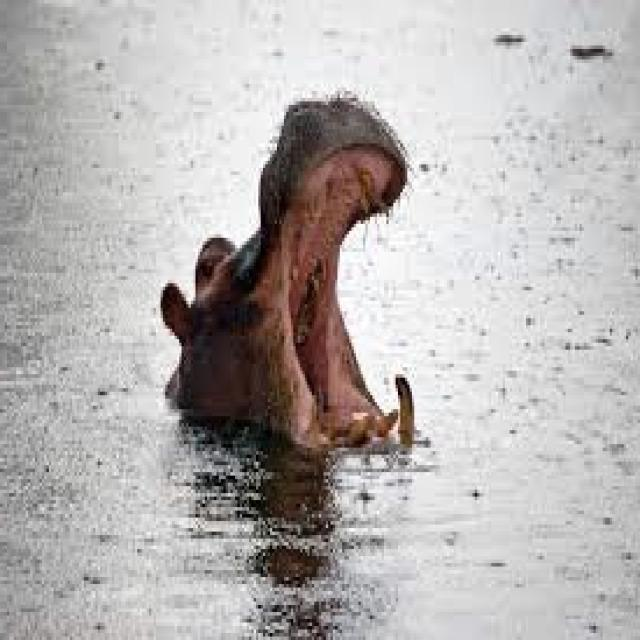hippopotamus: (163, 94, 414, 448)
